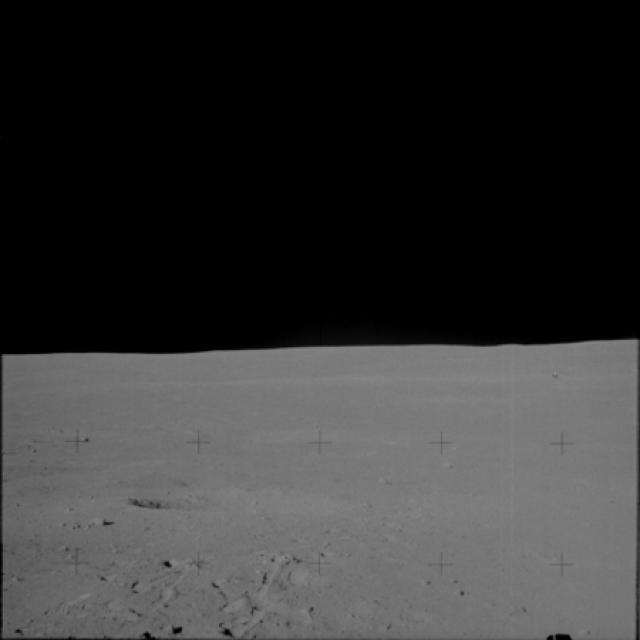crater: (121, 483, 345, 527)
